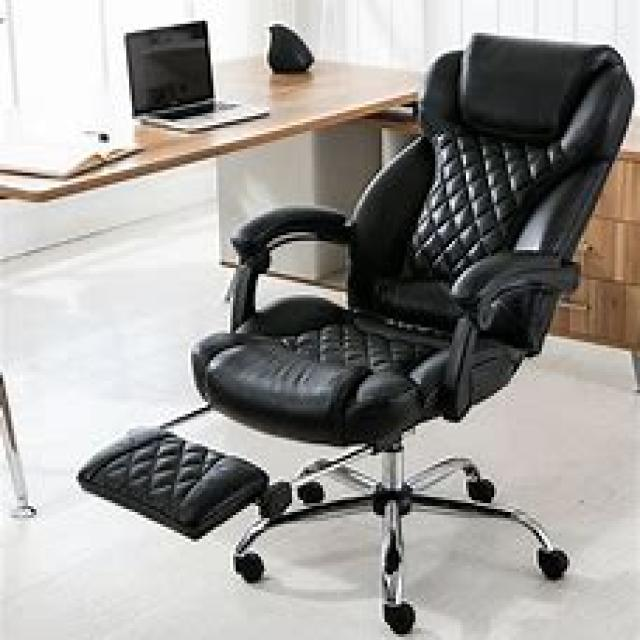chair: (180, 30, 634, 634)
